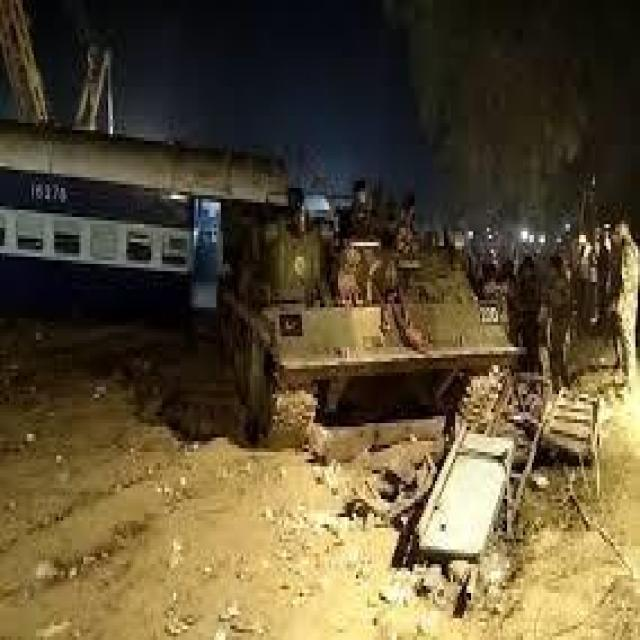MIL_MBT: (216, 204, 527, 447)
